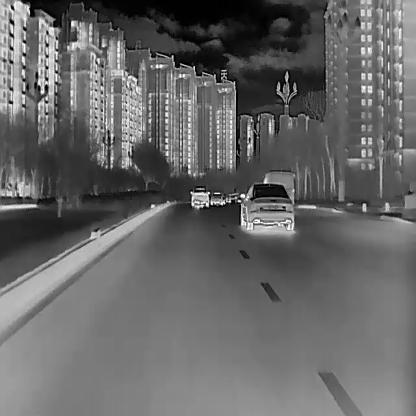car: (240, 182, 295, 231), (263, 169, 295, 206), (189, 185, 210, 208), (210, 190, 222, 205)
